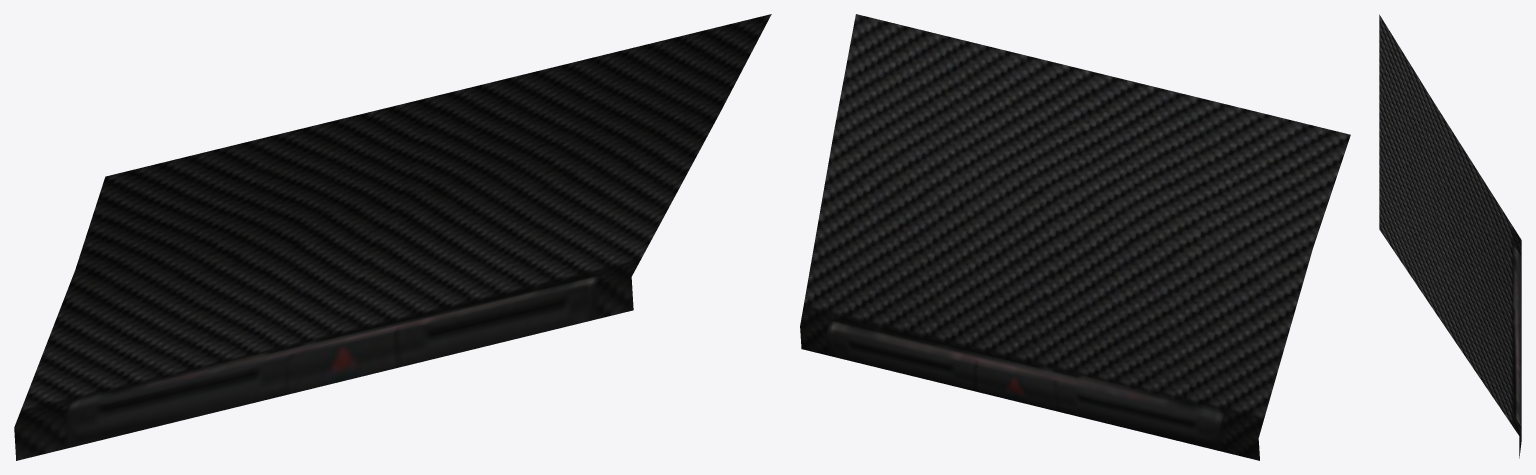
Rendered from pzhongkongmianbanhou.FBX.
3 renders of one model, left to right at view 1: azimuth 30°, elevation 25°; view 2: azimuth 150°, elevation 25°; view 3: azimuth 270°, elevation 25°, orthographic. The views are drawn at different scales.
Parts seen in each view (by area): view 1: pzhongkongmianbanhou; view 2: pzhongkongmianbanhou; view 3: pzhongkongmianbanhou.
Boxes of the visible parts, bbox=[...] form: pzhongkongmianbanhou: bbox=[14, 14, 771, 460]; pzhongkongmianbanhou: bbox=[800, 14, 1350, 460]; pzhongkongmianbanhou: bbox=[1379, 14, 1521, 458].
Bounding box in the file's own units: 155 × 81.13 × 43.29.
